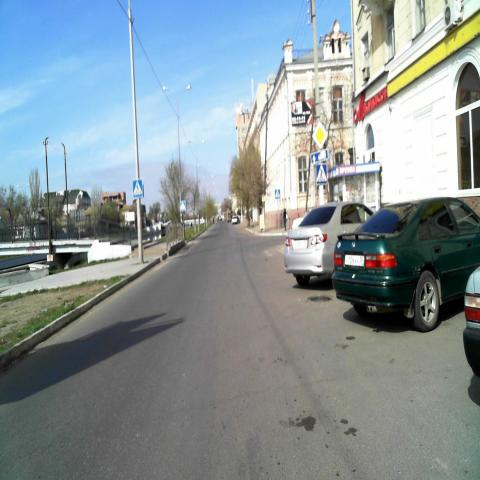2_1: (312, 121, 328, 148)
